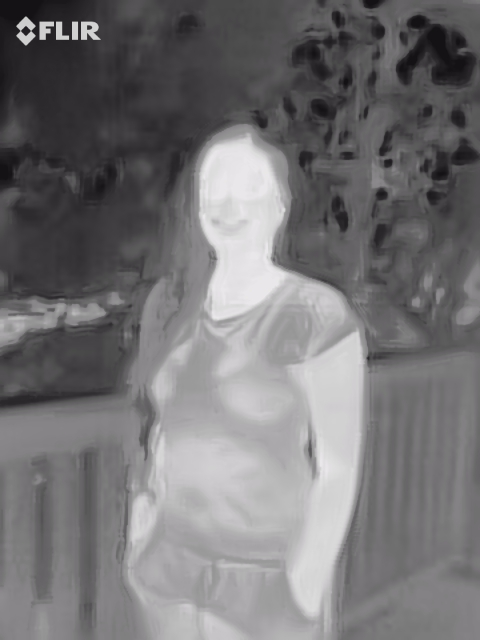head: (189, 125, 292, 258)
